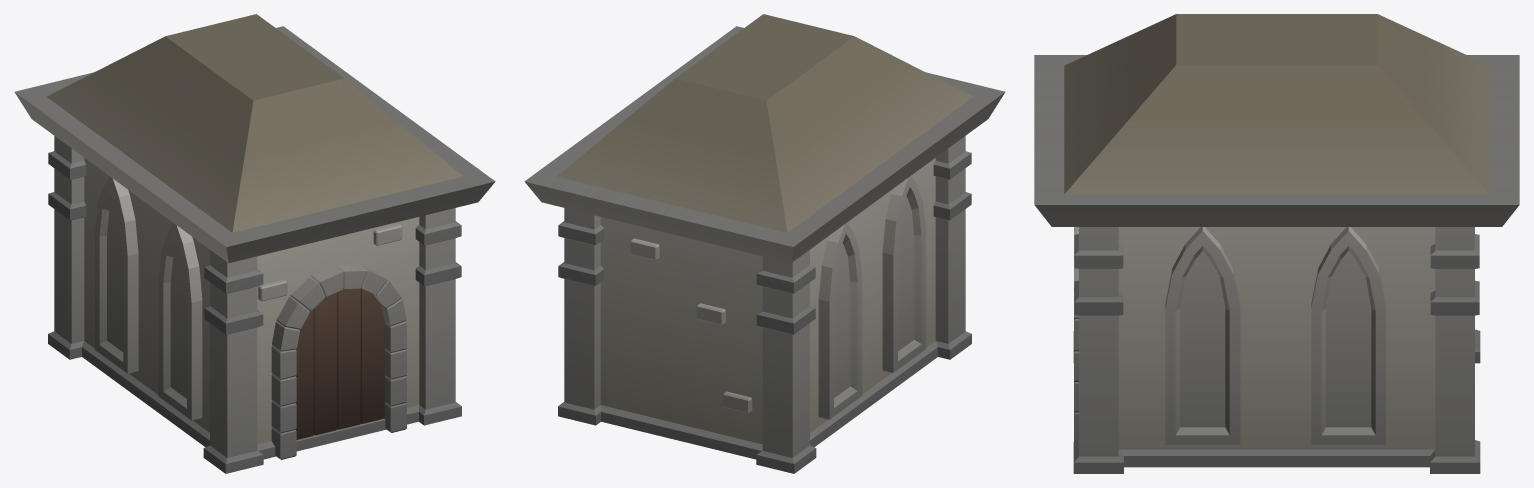
The model's file is Small_building.fbx.
3 renders of one model, left to right at view 1: azimuth 30°, elevation 25°; view 2: azimuth 150°, elevation 25°; view 3: azimuth 270°, elevation 25°, orthographic. The views are drawn at different scales.
Parts seen in each view (by area): view 1: Cube.058; view 2: Cube.058; view 3: Cube.058.
Boxes of the visible parts, left/top/right/bottom form: Cube.058: left=14, top=14, right=495, bottom=473; Cube.058: left=524, top=14, right=1005, bottom=473; Cube.058: left=1034, top=14, right=1519, bottom=473.
Bounding box in the file's own units: 8.22 × 9.42 × 11.23.
